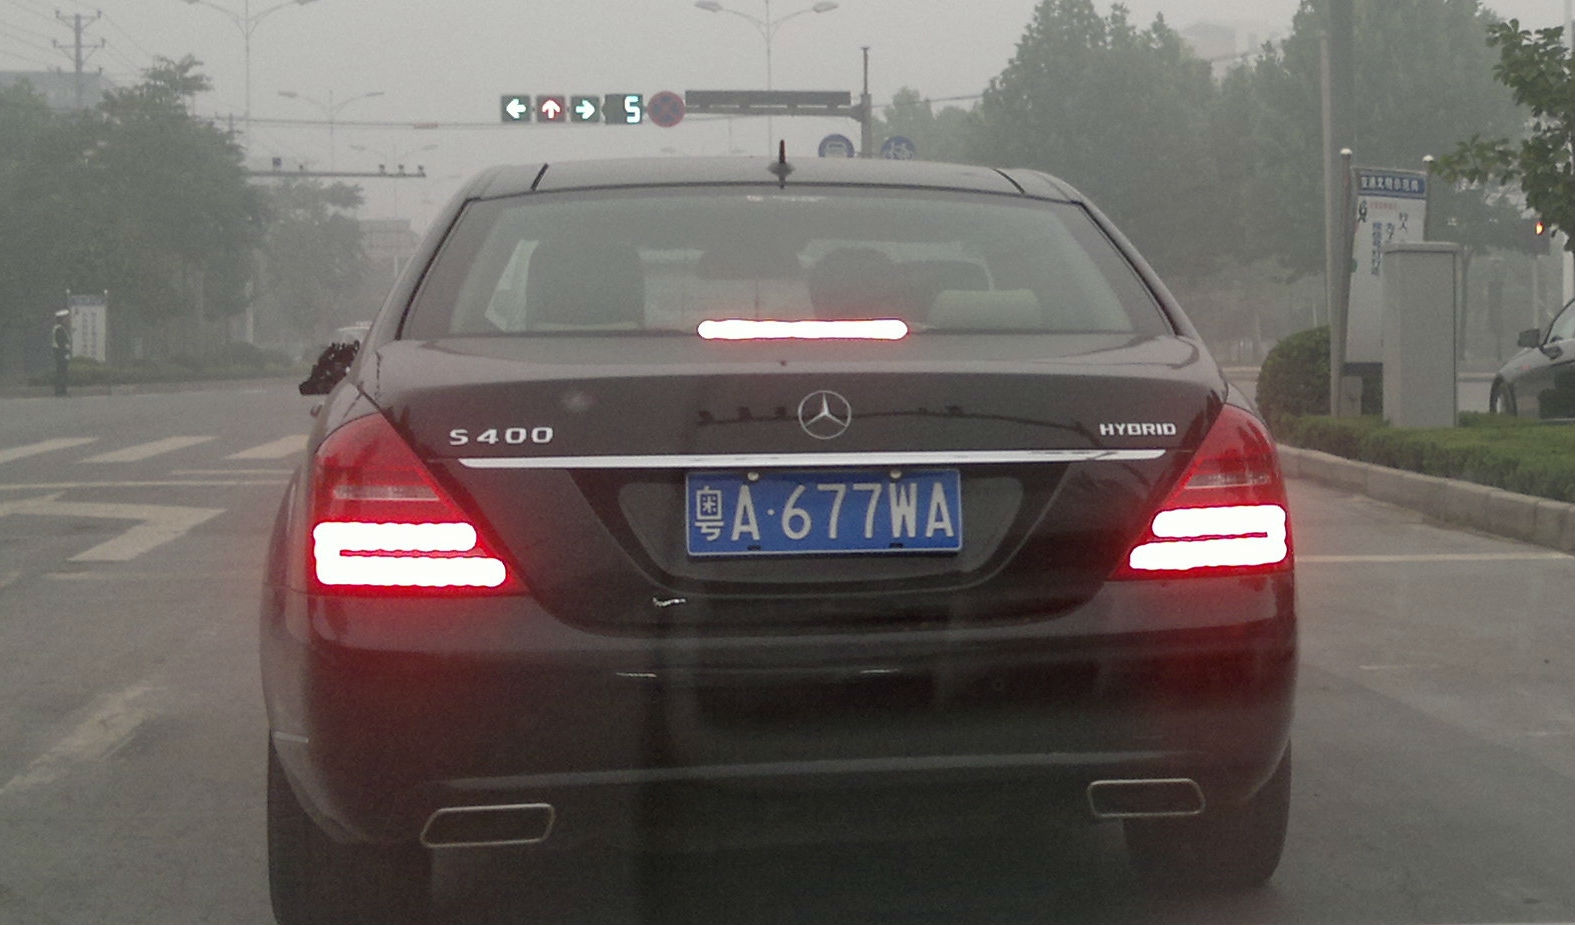plate_number: (677, 465, 960, 551)
